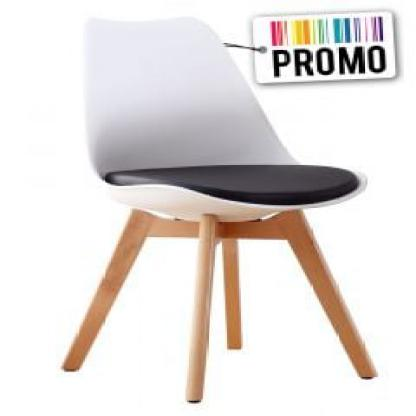chair: (71, 13, 380, 405)
